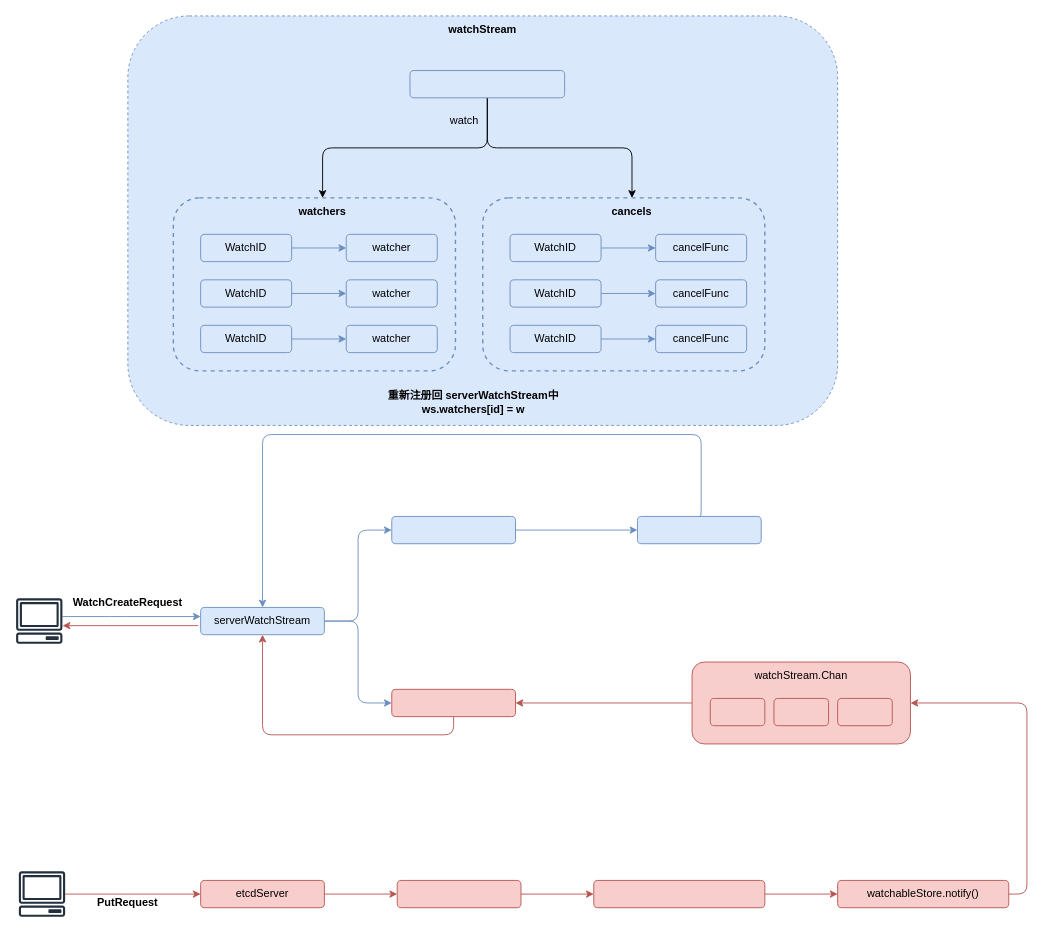
The diagram is 1050 pixels wide and 933 high, and some of its shapes have lost their labels. Each missing label, with the centre of its shape:
receLoop: [453,530]
sendLoop: [453,702]
watchable 用于实例化监听的watcher: [487,84]
watchableStore 实例化 watcher: [699,530]
watchableStoreTxnWrite.End(): [679,894]
writeView.Put: [458,894]
